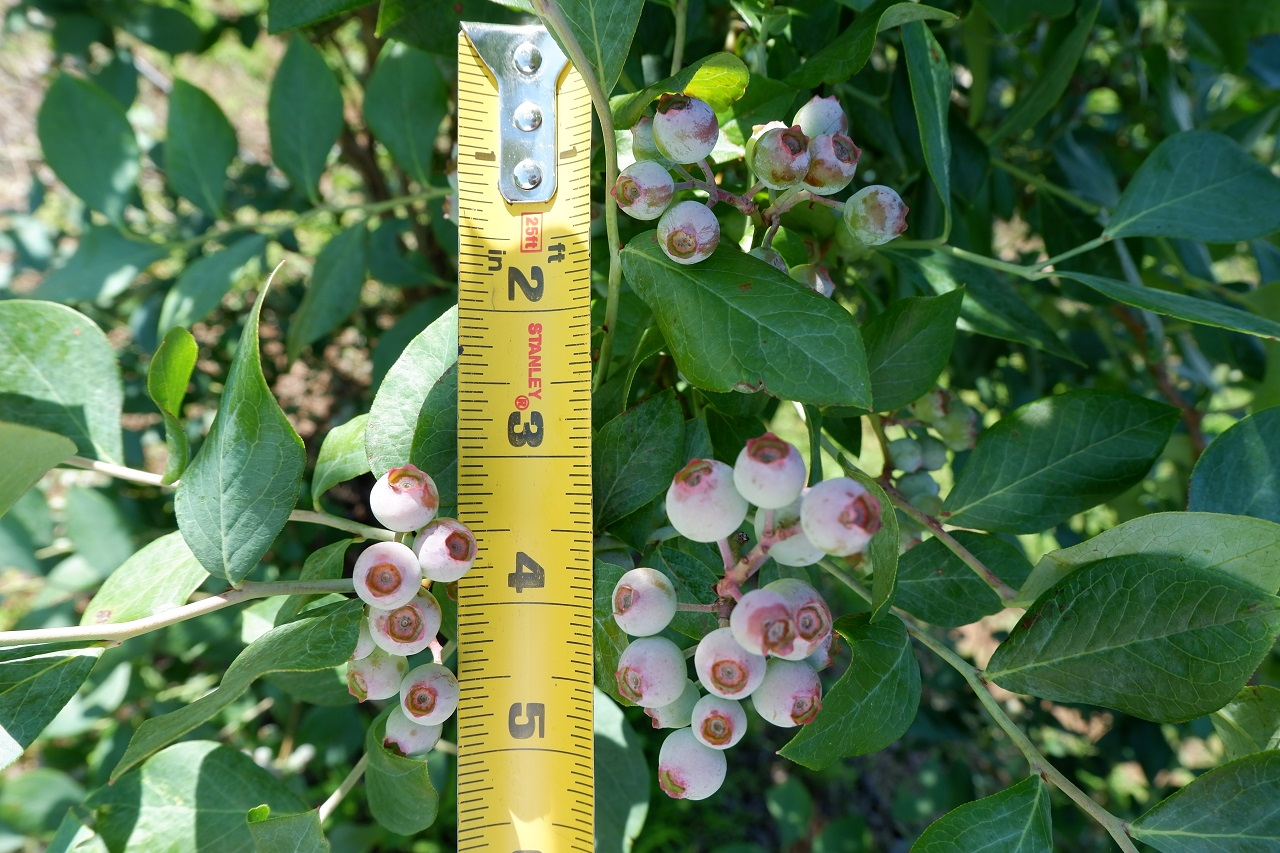Immature: (666, 458, 749, 542), (798, 476, 883, 558), (732, 431, 806, 509), (765, 577, 833, 661), (755, 488, 826, 567), (616, 634, 688, 708), (694, 627, 766, 700), (368, 586, 442, 656), (658, 727, 728, 801), (751, 658, 822, 728), (370, 464, 440, 533), (353, 542, 423, 611), (652, 93, 719, 164), (730, 589, 798, 657), (412, 516, 479, 582), (611, 568, 677, 635), (657, 201, 720, 265), (799, 131, 862, 195), (751, 126, 811, 191), (844, 185, 909, 245), (400, 663, 461, 726), (610, 161, 675, 220), (346, 645, 409, 703), (382, 704, 443, 757), (690, 695, 748, 750), (645, 678, 701, 728), (630, 115, 676, 171), (792, 95, 849, 140), (745, 121, 787, 172), (789, 263, 837, 299), (802, 631, 842, 672), (347, 614, 377, 661), (747, 247, 789, 276)
